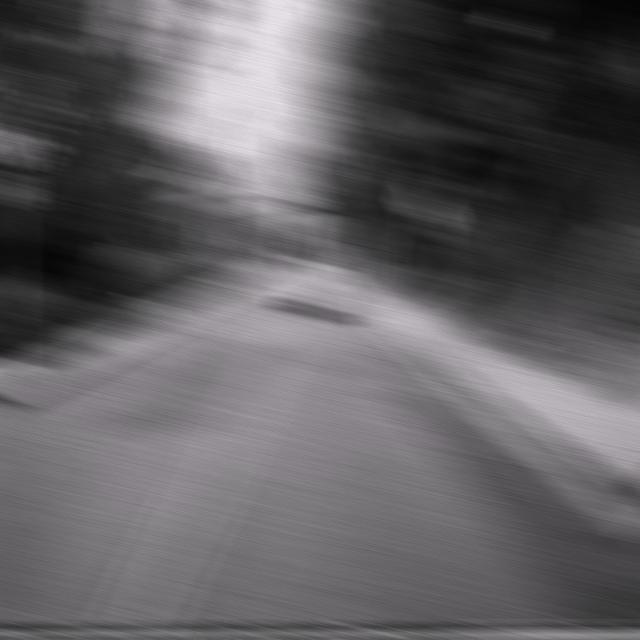pedestrianCrossing: (407, 185, 448, 228)
